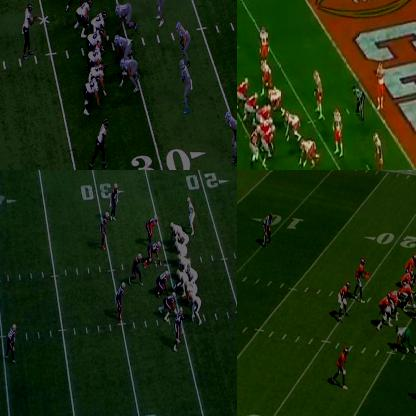CENTER: (92, 10, 108, 30), (401, 283, 414, 307), (257, 106, 271, 125), (176, 269, 187, 292)
DB: (370, 59, 384, 107), (226, 109, 236, 162), (6, 324, 18, 362), (100, 210, 111, 248), (376, 135, 388, 169), (111, 181, 121, 218), (259, 26, 269, 54)
LB: (176, 19, 192, 70), (330, 107, 344, 151), (180, 60, 192, 109), (174, 306, 185, 350), (116, 279, 127, 318), (316, 72, 324, 118), (132, 249, 142, 283), (151, 0, 164, 26), (147, 213, 157, 239)
QB: (22, 0, 34, 60), (356, 257, 366, 296), (188, 263, 198, 282)
SKILL: (94, 118, 111, 169), (84, 77, 101, 112), (335, 348, 348, 388), (339, 282, 351, 322), (94, 63, 107, 97), (250, 124, 260, 167), (188, 196, 197, 231), (176, 229, 190, 244), (170, 219, 177, 237)
